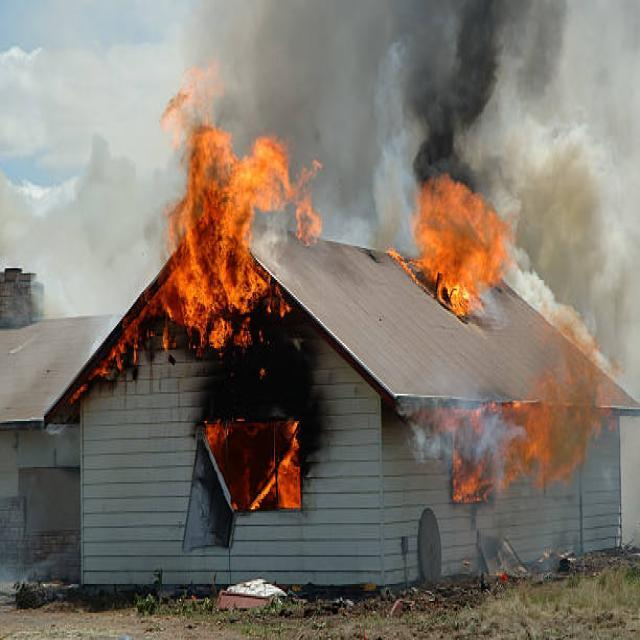Fire: (77, 85, 321, 387), (415, 318, 615, 516), (396, 162, 516, 330), (200, 414, 304, 528)
Smoke: (225, 0, 640, 387), (391, 0, 512, 233)
